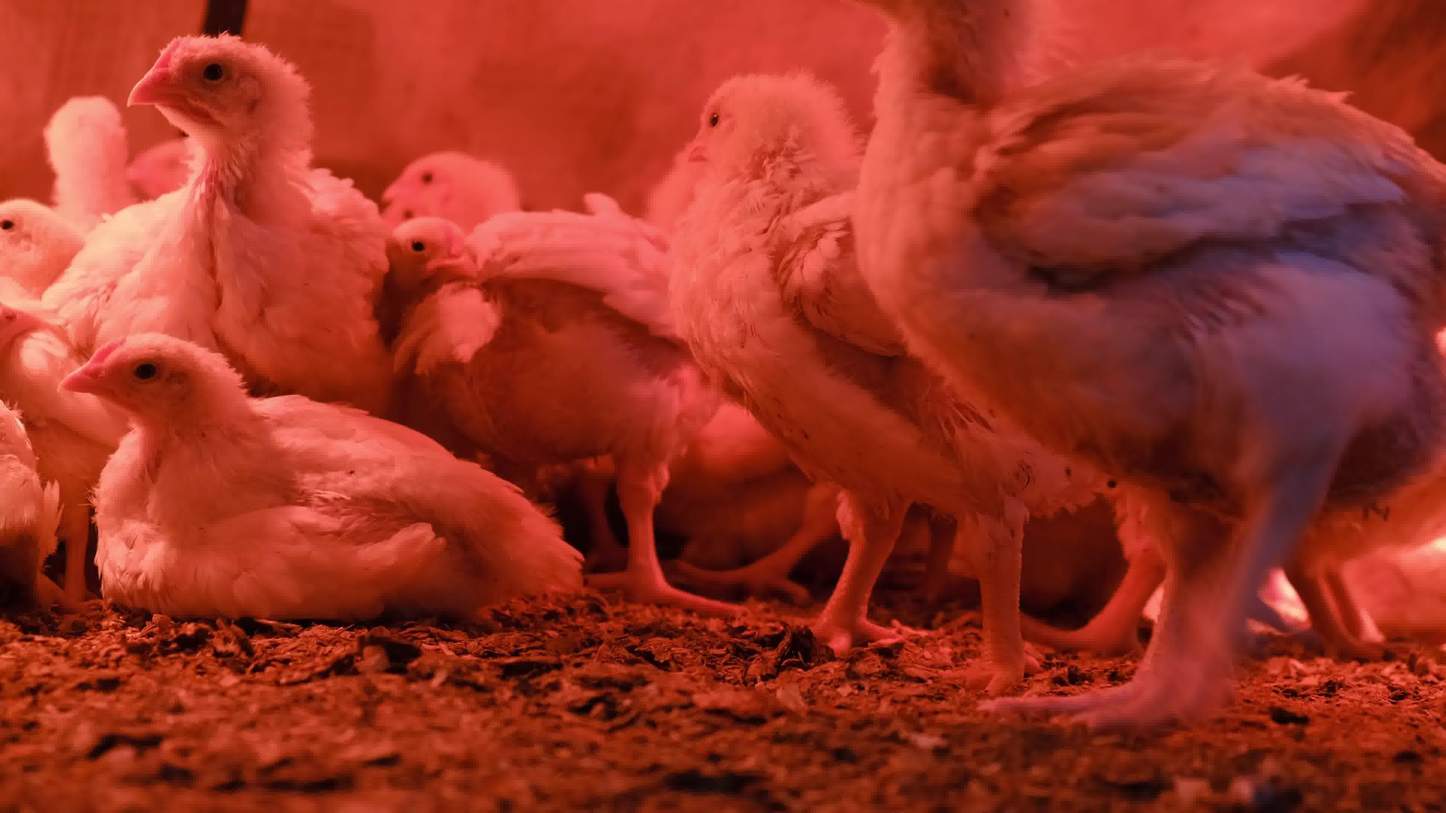AbNormal: (57, 332, 587, 628), (0, 298, 49, 622)
Normal: (851, 0, 1446, 742), (682, 74, 1108, 689), (375, 153, 769, 618), (45, 34, 386, 408), (0, 198, 126, 619), (367, 219, 475, 405), (45, 96, 123, 247), (122, 134, 202, 208)
